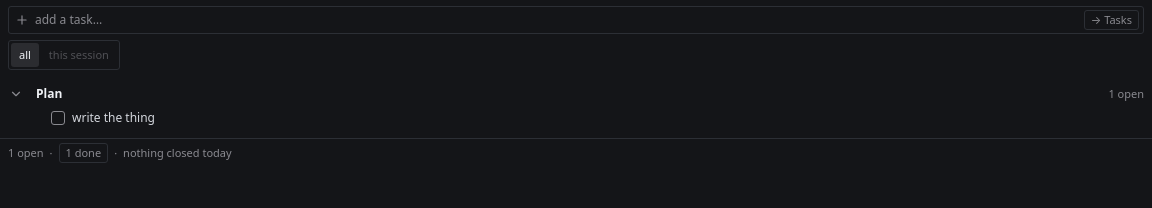
Test: the tasks panel › keeps done tasks behind the count in the footer, shown in place on request
Expected: the text "done one" is not shown
Click the button "1 done".
click(83, 153)  # box [58,143,108,163]
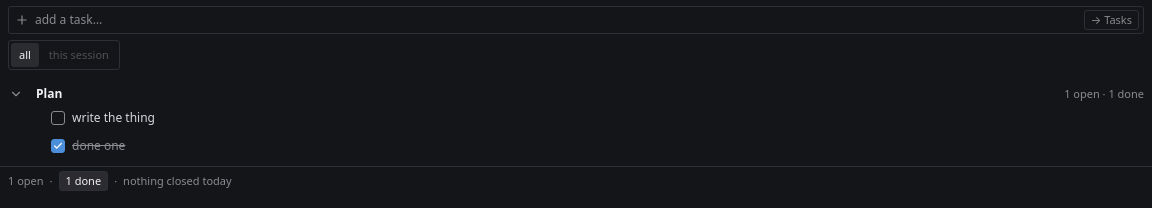
Expected: the text "1 open" is shown, [8,173,44,189]
Expected: the text "done one" is shown, [72,137,125,154]
